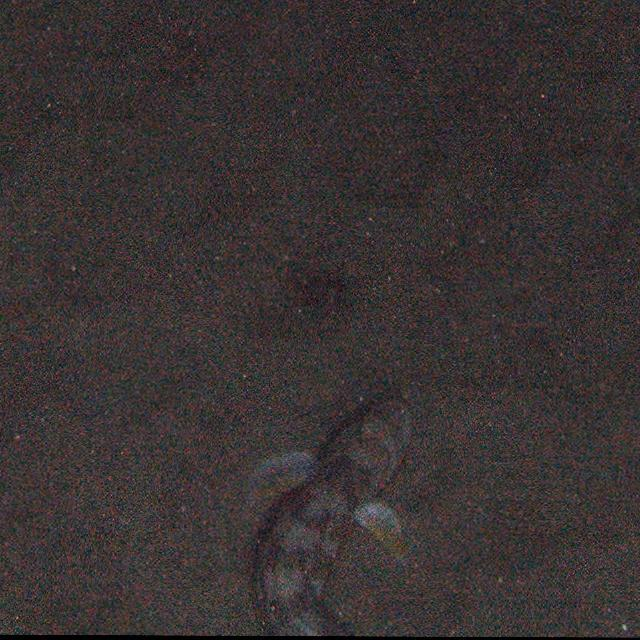roundfish: (214, 390, 426, 640)
